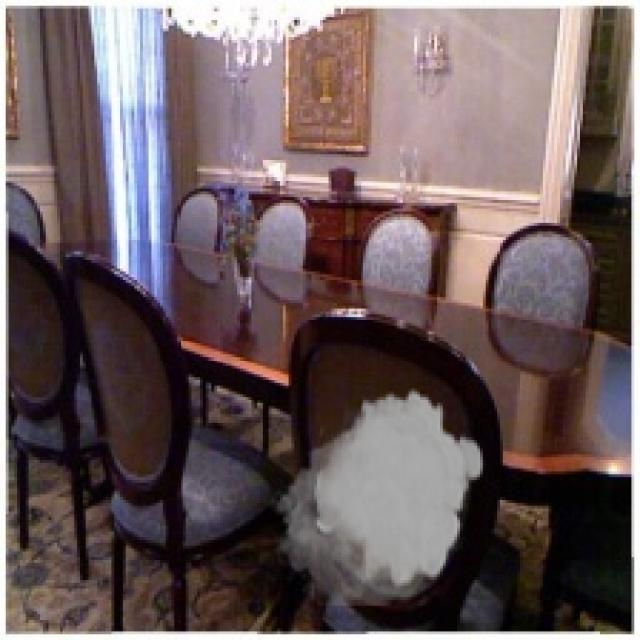Smoke: (268, 386, 486, 606)
